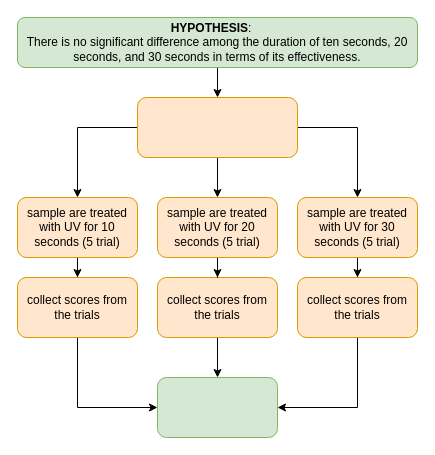
Image size: 435x455. Some labels were removed from this diagram. Here are the shapes that lost their labels. From the top down, the centre of each, then its label:
the point at 217,127: sample for the experiment are randomly assigned.
the point at 217,407: scores are compared (one sample t-test)
